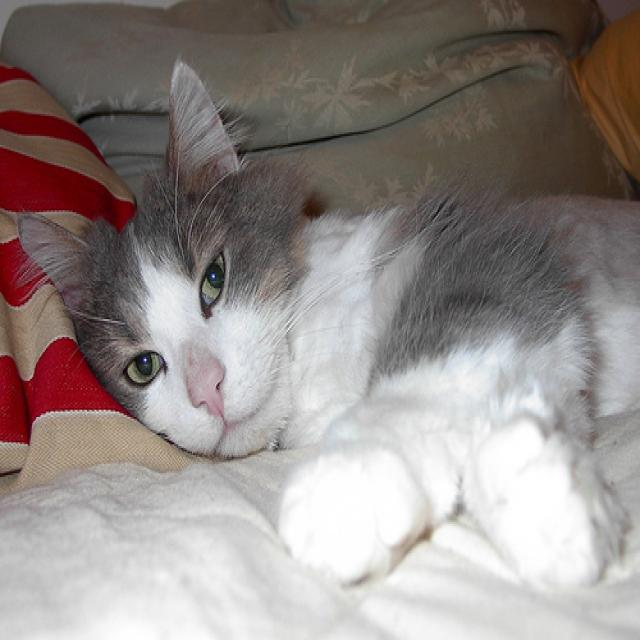left eye: (197, 246, 228, 312)
